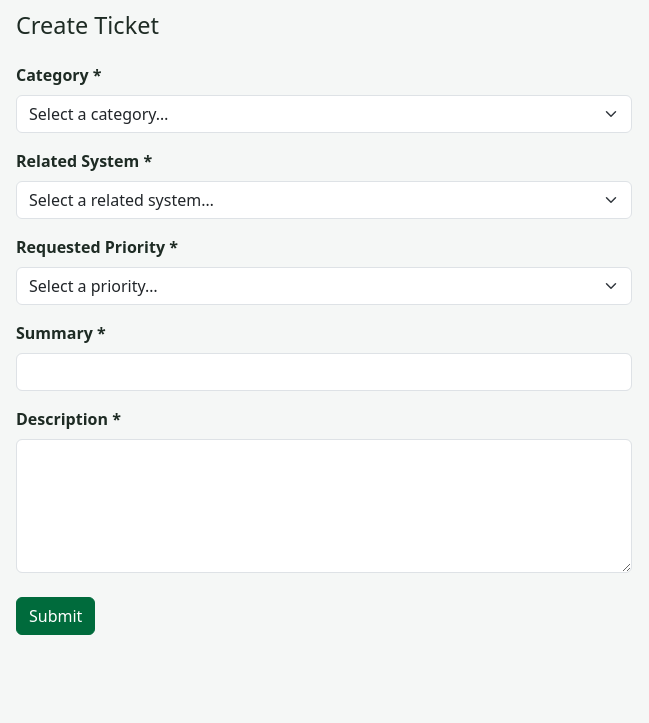
CreateTicket › blocks submission and shows field errors when required fields are empty
The width and height of the screenshot is (649, 723).
Expected: the dropdown labelled "Category *" is shown, [16, 95, 632, 133]
Step 1. Click the button "Submit" → (56, 616), box [16, 597, 95, 635]
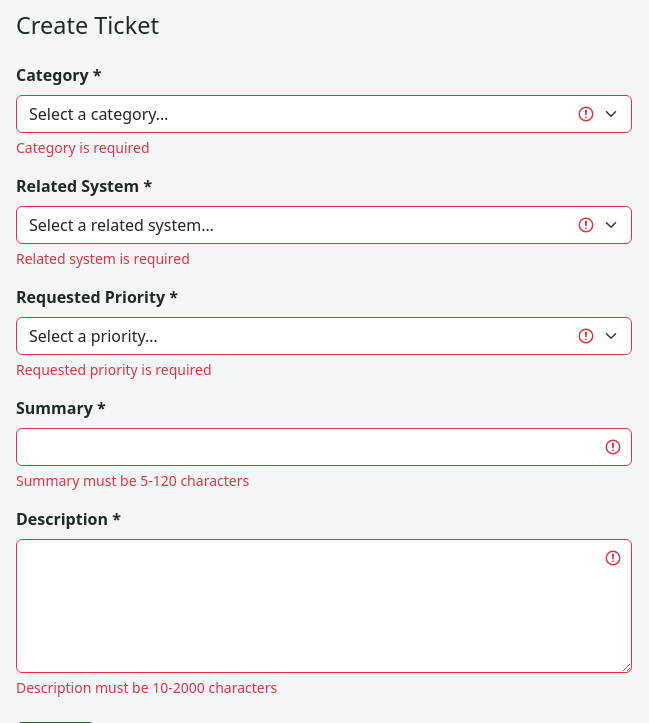
Expected: the text "Summary must be 5-120 characters" is shown, [16, 471, 249, 490]
